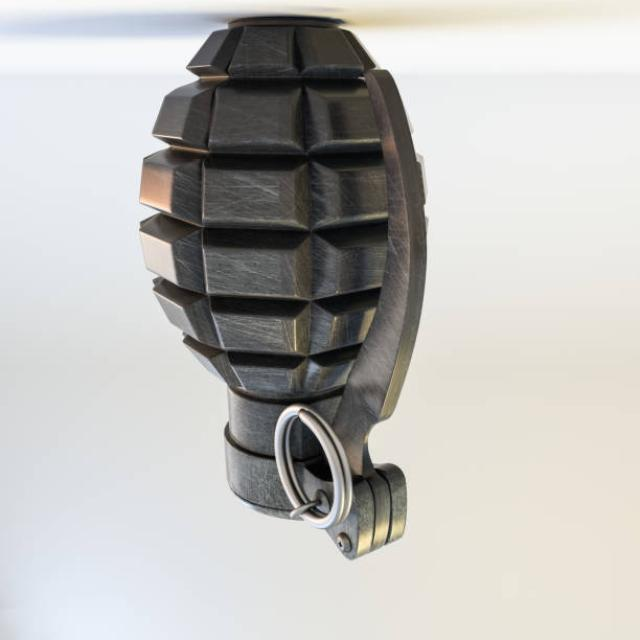grenade: (124, 14, 439, 566)
